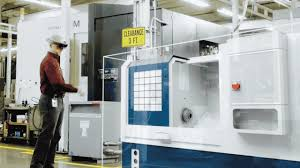hololens: (43, 36, 70, 50)
